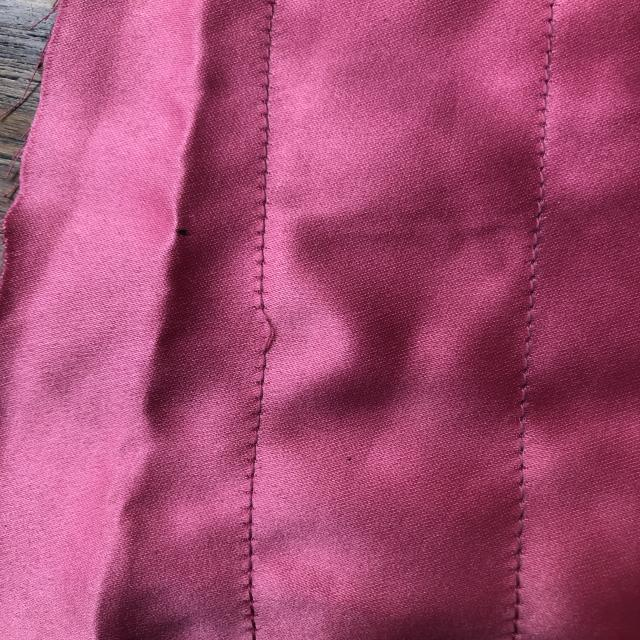good: (511, 216, 560, 309)
skip: (231, 291, 295, 367)
